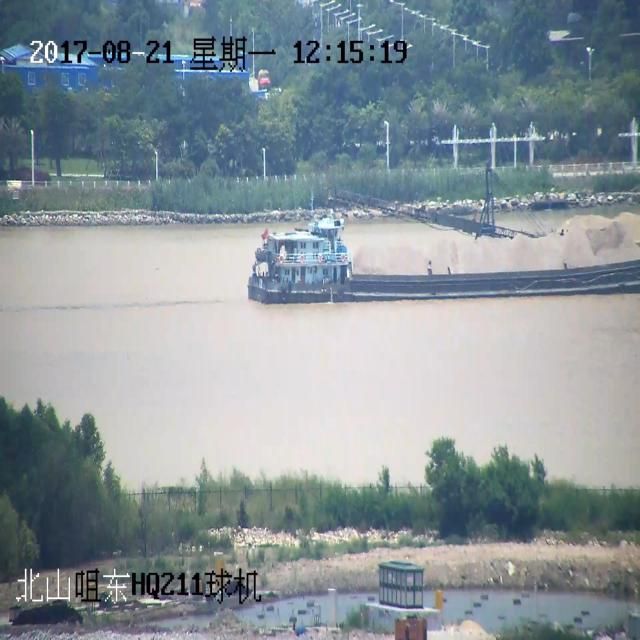cargoship: (255, 135, 639, 318)
